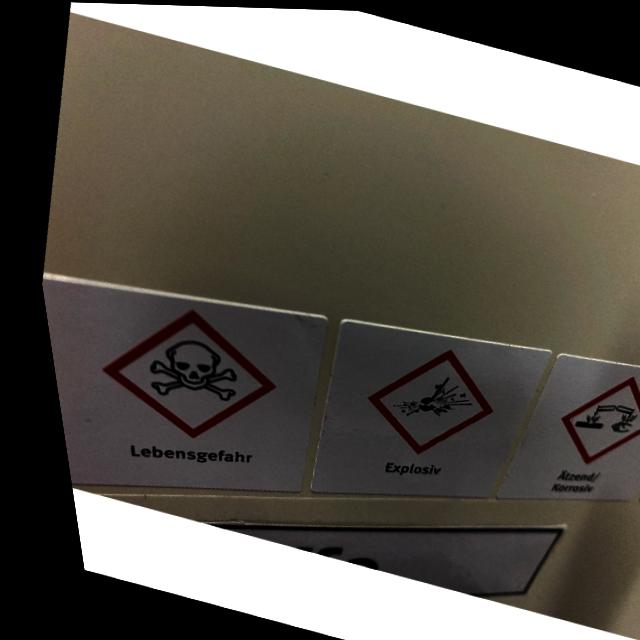acute toxicity: (127, 328, 235, 413)
corrosive: (558, 390, 628, 437)
explosive: (374, 361, 468, 430)
